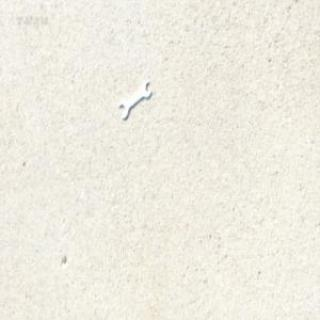Wrenchtrack_idkeyframe: (118, 80, 151, 118)
